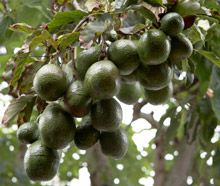unfit_avocado: (35, 104, 73, 147), (22, 138, 61, 179), (83, 57, 120, 98), (31, 61, 68, 101), (137, 24, 172, 66), (134, 55, 174, 91), (90, 94, 123, 136)
